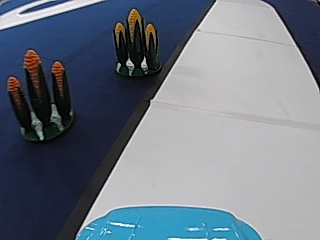corn: (9, 48, 77, 142), (109, 6, 163, 77)
